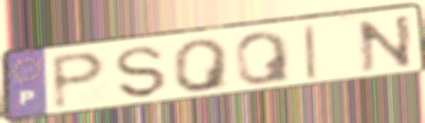I: (301, 22, 320, 83)
N: (354, 12, 416, 75)
P: (49, 49, 110, 113)
Q: (169, 35, 233, 94), (232, 29, 295, 87)
S: (113, 44, 170, 100)
